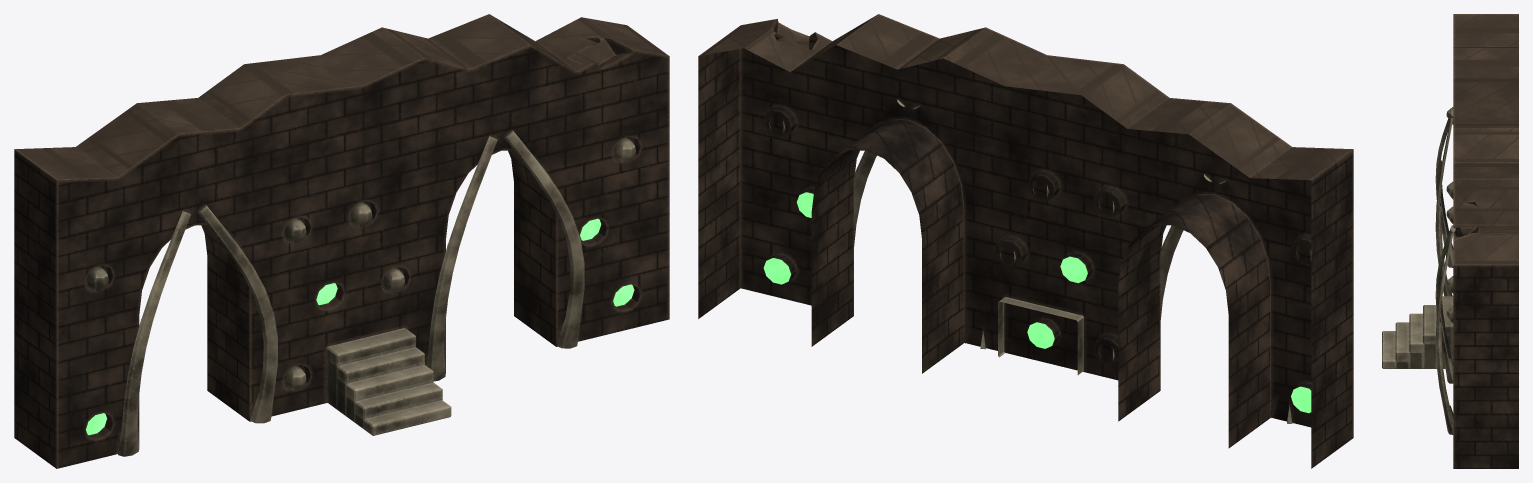
File: Ossuary_BG_Near.fbx
3 views of the same model, side by side, from view 1: azimuth 30°, elevation 25°; view 2: azimuth 150°, elevation 25°; view 3: azimuth 270°, elevation 25° (orthographic). The views are drawn at different scales.
Parts seen in each view (by area): view 1: Ossuary_BG_Near; view 2: Ossuary_BG_Near; view 3: Ossuary_BG_Near.
Part boxes in pixels (bbox=[...]): Ossuary_BG_Near: bbox=[14, 14, 669, 468]; Ossuary_BG_Near: bbox=[698, 14, 1353, 468]; Ossuary_BG_Near: bbox=[1382, 14, 1518, 468].
Size of the model in its own units: 20 by 10.05 by 5.
